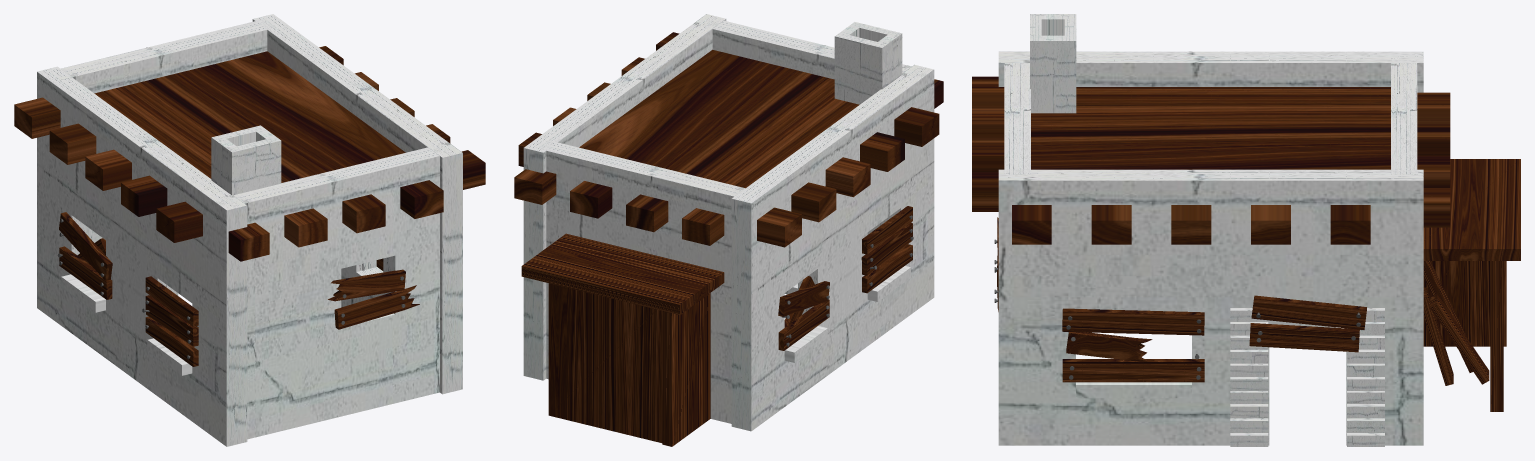
Rendered from House_M_11.fbx.
3 views of the same model, side by side, from view 1: azimuth 30°, elevation 25°; view 2: azimuth 150°, elevation 25°; view 3: azimuth 270°, elevation 25° (orthographic). The views are drawn at different scales.
Parts seen in each view (by area): view 1: pCube2, pCube3, pCube5, pCube1, pCube4, pCube13, pCube25, pCube26, pCube22, pCube23, pCube20, pCube21 (+1 smaller); view 2: pCube2, pCube5, pCube4, pCube6, pCube1, pCube8, pCube7, pCube13, pCube3, pCube23, pCube22, pCube20 (+2 smaller); view 3: pCube1, pCube5, pCube2, pCube8, pCube13, pCube7, pCube18, pCube16, pCube4, pCube3, pCube27, pCube28 (+17 smaller).
Part boxes in pixels (x1,y1,x2,y2): pCube2: (37,66,247,446); pCube3: (222,147,446,439); pCube5: (14,46,485,261); pCube1: (252,14,462,394); pCube4: (57,19,274,242); pCube13: (211,125,281,195); pCube25: (334,285,419,329); pCube26: (328,269,405,301); pCube22: (59,212,112,280); pCube23: (59,246,112,299); pCube20: (145,295,198,346); pCube21: (145,276,198,326); pCube2: (731,64,934,431); pCube5: (514,32,943,247); pCube4: (541,140,754,423); pCube6: (548,283,662,442); pCube1: (523,14,726,380); pCube8: (521,233,724,314); pCube7: (662,293,710,446); pCube13: (834,22,902,234); pCube3: (707,19,922,79); pCube23: (778,299,829,350); pCube22: (778,281,829,316); pCube20: (861,222,912,275); pCube1: (998,169,1423,445); pCube5: (972,76,1450,244); pCube2: (998,51,1423,327); pCube8: (1423,159,1520,260); pCube13: (1030,14,1076,113); pCube7: (1423,261,1506,346); pCube18: (1062,308,1204,335); pCube16: (1062,359,1204,382); pCube4: (1391,56,1417,174); pCube3: (1004,63,1030,174); pCube27: (1251,295,1366,329); pCube28: (1249,323,1359,352).
Bounding box in the file's own units: 14.3 × 13.16 × 20.66.
